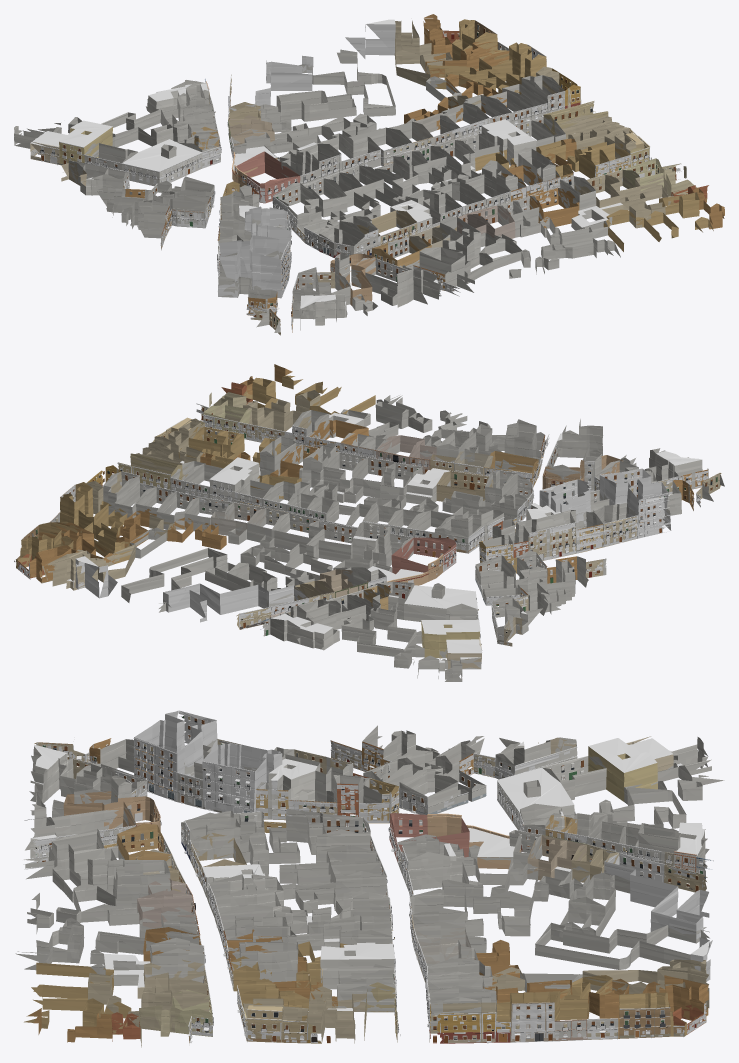
Rendered from zona_-1_-1.glb.
The picture shows the model from 3 angles, top to bottom: view 1: azimuth 30°, elevation 25°; view 2: azimuth 150°, elevation 25°; view 3: azimuth 270°, elevation 25°; orthographic projection. The views are drawn at different scales.
Visible parts, largest first — view 1: z_casas_-1_-1, z_fachadas_-1_-1, z_casas_planas_-1_-1; view 2: z_casas_-1_-1, z_fachadas_-1_-1, z_casas_planas_-1_-1; view 3: z_casas_-1_-1, z_fachadas_-1_-1, z_casas_planas_-1_-1.
Boxes of the visible parts, box(x1,y1,x2,y2) form: z_casas_-1_-1: box(14, 14, 724, 335); z_fachadas_-1_-1: box(31, 20, 681, 332); z_casas_planas_-1_-1: box(14, 19, 623, 327); z_casas_-1_-1: box(16, 364, 724, 681); z_fachadas_-1_-1: box(14, 403, 720, 650); z_casas_planas_-1_-1: box(66, 412, 702, 677); z_casas_-1_-1: box(15, 710, 724, 1047); z_fachadas_-1_-1: box(23, 711, 710, 1043); z_casas_planas_-1_-1: box(29, 738, 712, 1020).
Bounding box in the file's own units: 206 × 18.26 × 212.
